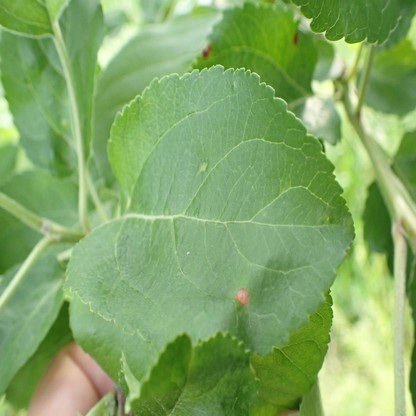frogeye_leaf_spot: (234, 288, 250, 305), (202, 44, 212, 58), (294, 33, 299, 46)
scab: (195, 161, 209, 179)
